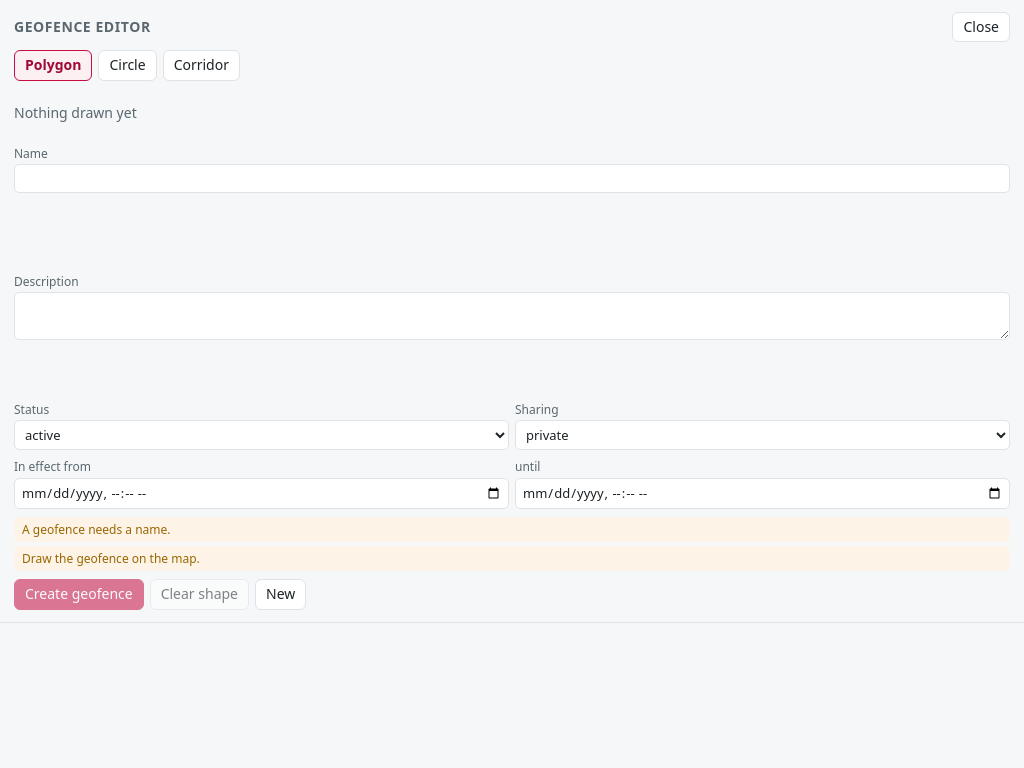
Test: GeofenceEditor › refuses a radius the service would refuse
Click the button "Circle": (128, 65) [98,50,157,81]
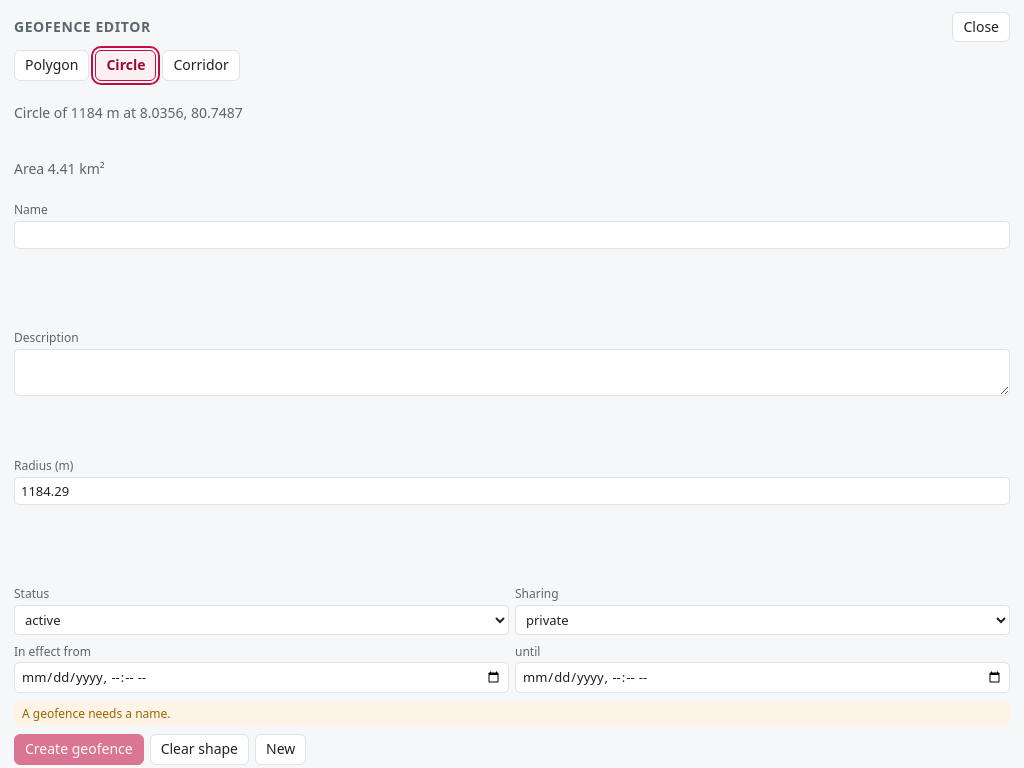
In the field labelled "Name": (512, 235) [14,221,1010,249], type "Too big"
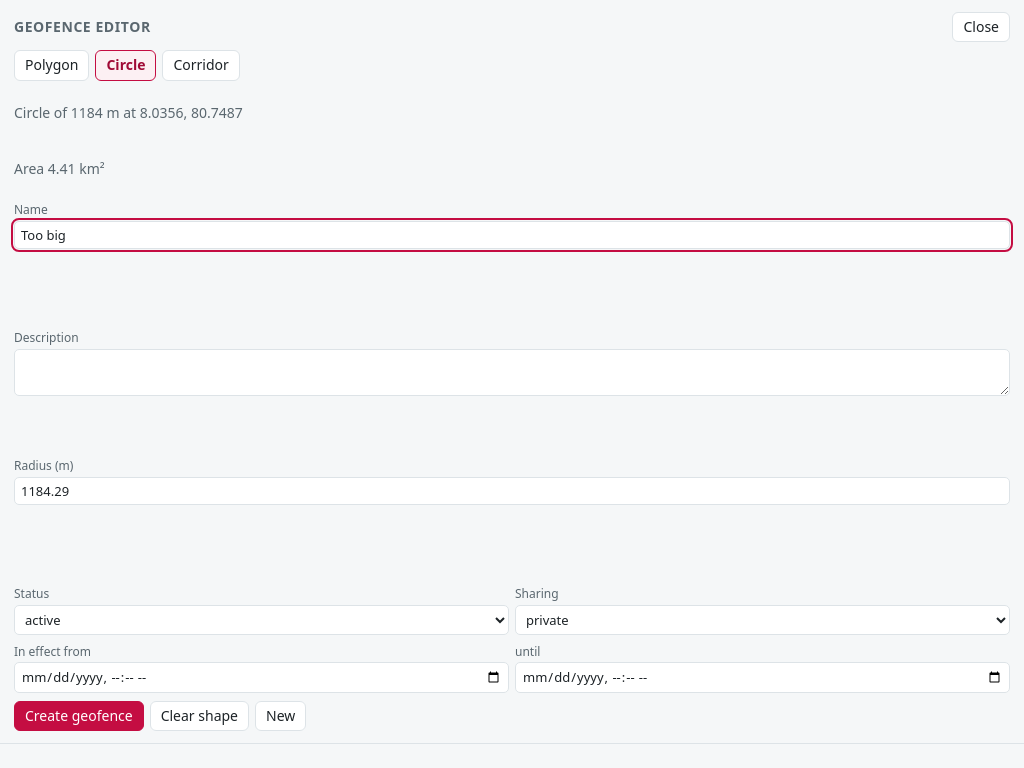
Clear the number field labelled "Radius (m)": (512, 491) [14,477,1010,505]
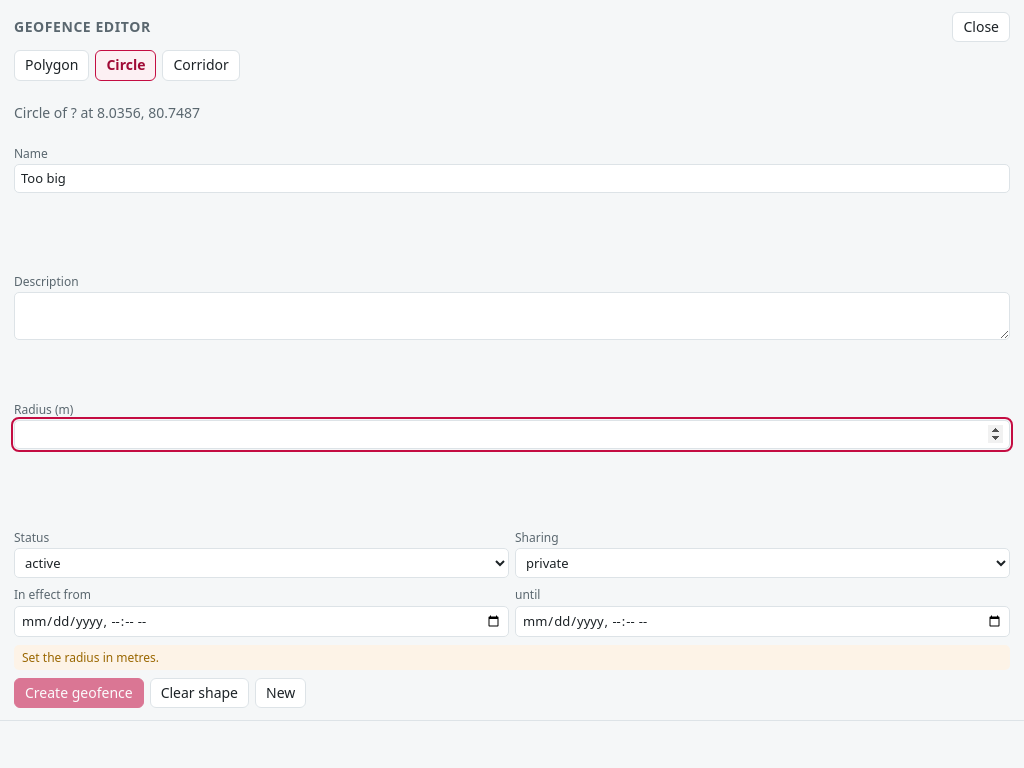
In the number field labelled "Radius (m)": (512, 435) [14,420,1010,449], type "50001"
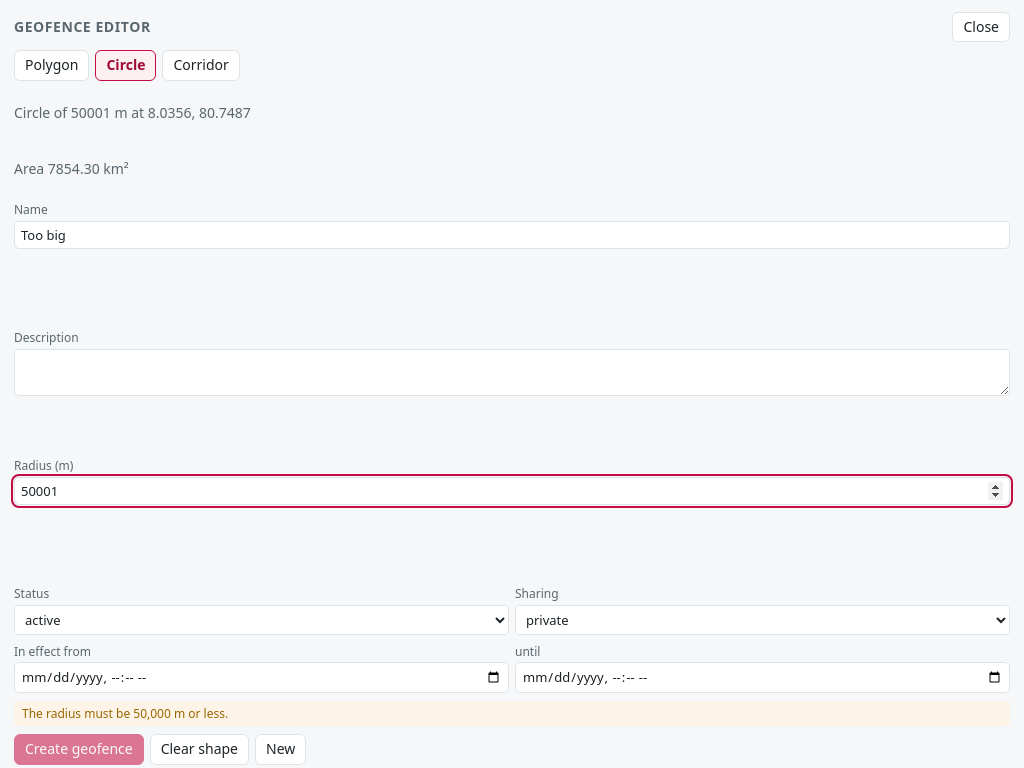
Expected: the button "Create geofence" is disabled, [14,734,144,764]
Expected: the list item "The radius must be 50,000 m or less." is shown, [14,701,1010,726]
